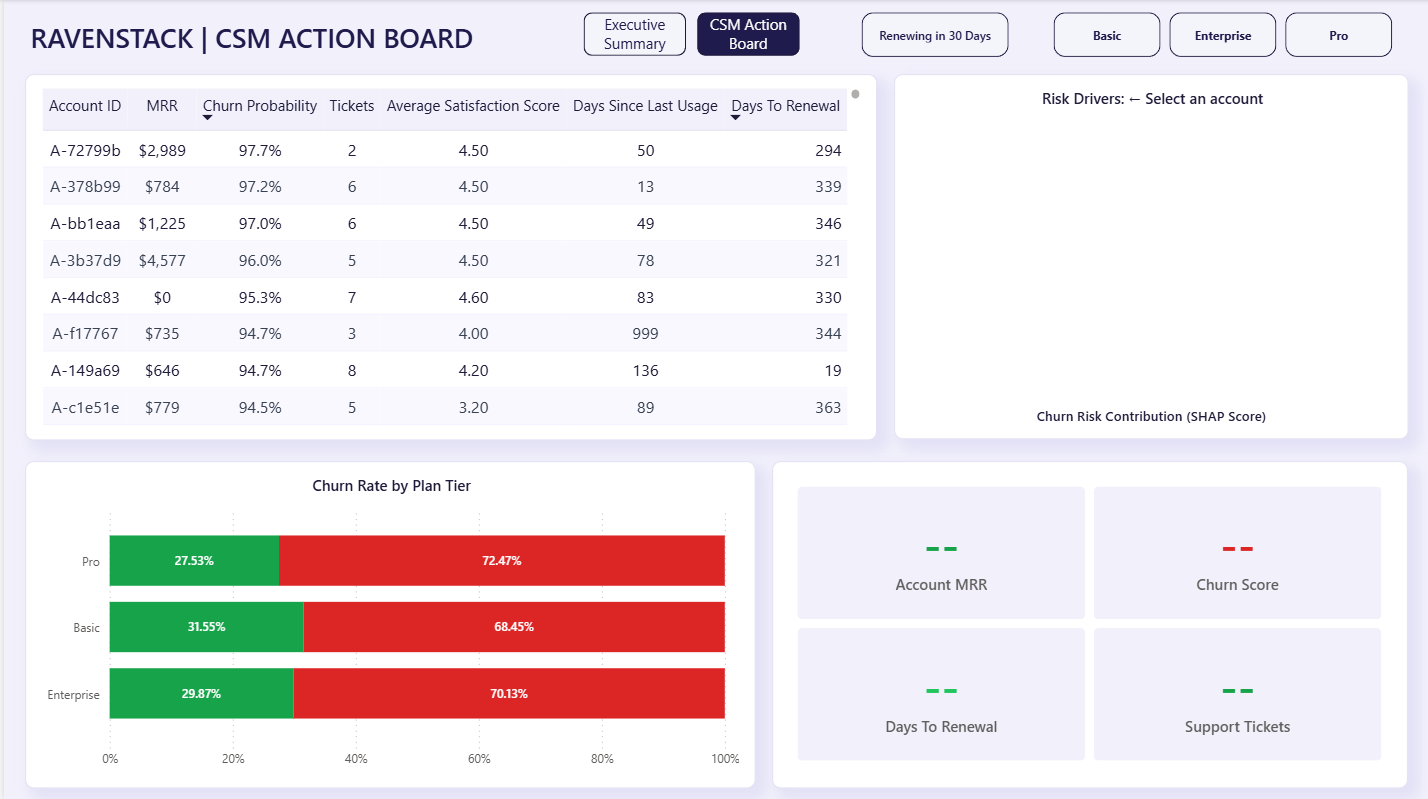

The dashboard page shown, as its layout file describes it:
{"tool":"powerbi","page":{"name":"CSM Action Board","canvas":[1280,720],"ordinal":1},"visuals":[{"type":"tableEx","fields":{"Values":["churn_feature_matrix.account_id","churn_feature_matrix.mrr","churn_scores.churn_probability","churn_feature_matrix.total_tickets","churn_feature_matrix.avg_satisfaction_score","churn_feature_matrix.days_since_last_usage","churn_feature_matrix.days_to_renewal"]},"box":[18.9,67.3,764.9,328.6],"z":0},{"type":"clusteredBarChart","fields":{"Category":["shap_explanations.feature_display_name"],"Y":["churn_feature_matrix.SHAP Value Filtered"]},"box":[799,67.3,462.3,327.7],"z":1000},{"type":"textbox","box":[9.5,6.6,528.5,60.7],"z":2000},{"type":"cardVisual","fields":{"Data":["churn_feature_matrix.Snapshot - MRR","churn_feature_matrix.Snapshot - Churn Probability","churn_feature_matrix.Snapshot - Days Inactive","churn_feature_matrix.Snapshot - Support Tickets"]},"box":[689.5,414.8,571,293.6],"z":3000},{"type":"hundredPercentStackedBarChart","title":"Churn Rate by Plan Tier","fields":{"Category":["churn_feature_matrix.plan_tier"],"Y":["CountNonNull(churn_feature_matrix.account_id)"],"Series":["churn_feature_matrix.churn_label"]},"box":[18.9,414.8,656.3,293.6],"z":4000},{"type":"pageNavigator","box":[506.3,0,223.5,63.7],"z":5000},{"type":"advancedSlicerVisual","fields":{"Values":["churn_feature_matrix.plan_tier"]},"box":[928.3,0,333.1,64.6],"z":6000},{"type":"advancedSlicerVisual","fields":{"Values":["churn_feature_matrix.renewal_urgency"]},"box":[755.9,0,160.7,64.6],"z":7000}]}

Visuals, with their boxes in screenshot pixels (x1, y1, x2, y2), scaled from the page's 1280x720 canvas onto the 1428x799 screenshot:
tableEx - churn_feature_matrix.account_id x churn_feature_matrix.mrr: pyautogui.locateOnScreen(21, 75, 874, 439)
clusteredBarChart - shap_explanations.feature_display_name x churn_feature_matrix.SHAP Value Filtered: pyautogui.locateOnScreen(891, 75, 1407, 438)
textbox: pyautogui.locateOnScreen(11, 7, 600, 75)
cardVisual - churn_feature_matrix.Snapshot - MRR x churn_feature_matrix.Snapshot - Churn Probability: pyautogui.locateOnScreen(769, 460, 1406, 786)
"Churn Rate by Plan Tier" hundredPercentStackedBarChart: pyautogui.locateOnScreen(21, 460, 753, 786)
pageNavigator: pyautogui.locateOnScreen(565, 0, 814, 71)
advancedSlicerVisual - churn_feature_matrix.plan_tier: pyautogui.locateOnScreen(1036, 0, 1407, 72)
advancedSlicerVisual - churn_feature_matrix.renewal_urgency: pyautogui.locateOnScreen(843, 0, 1023, 72)
